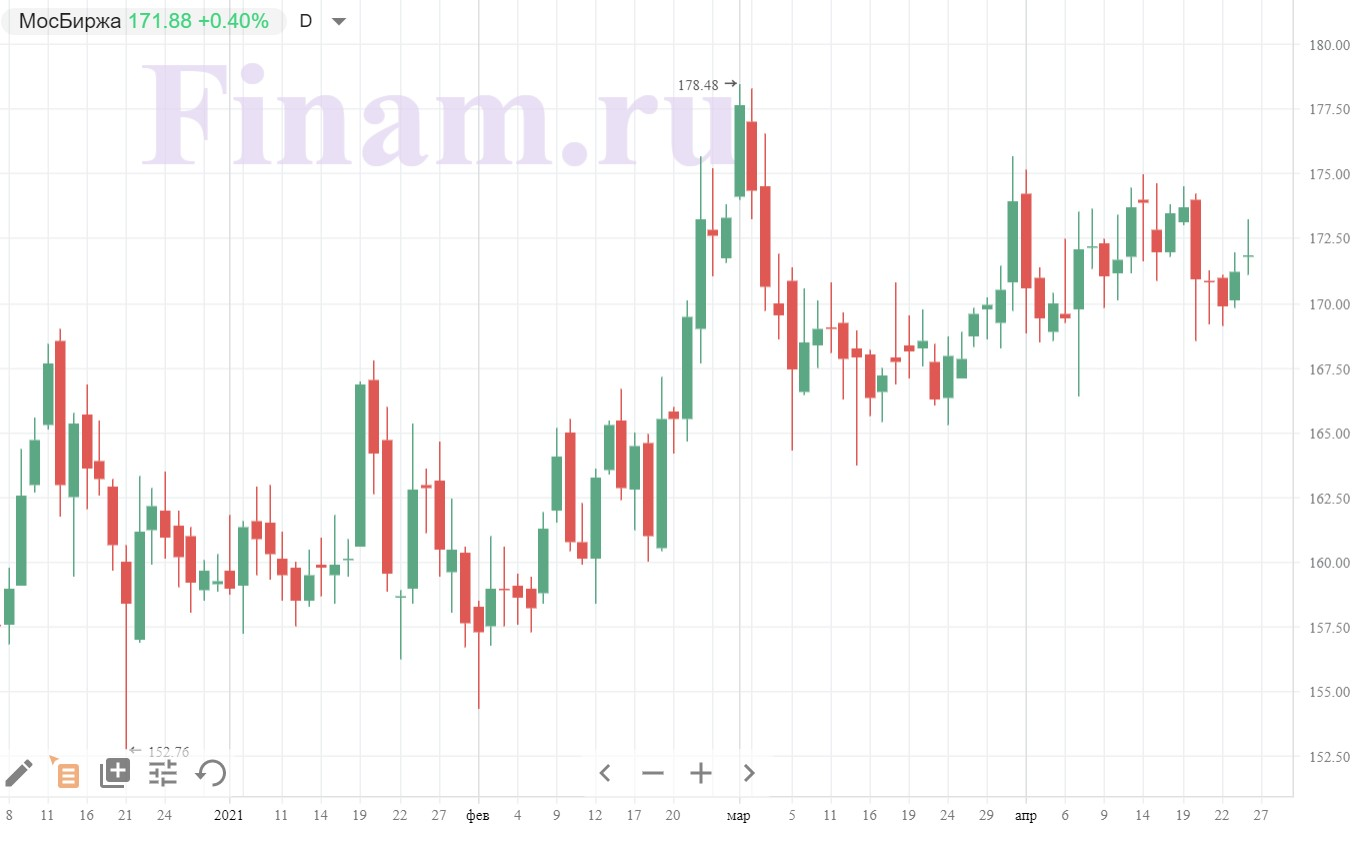bearishEngulfing: (41, 314, 67, 519), (629, 424, 655, 566), (549, 419, 576, 553), (1006, 172, 1033, 299), (1177, 185, 1202, 308), (602, 391, 628, 505)
bullishEngulfing: (118, 513, 150, 648)
